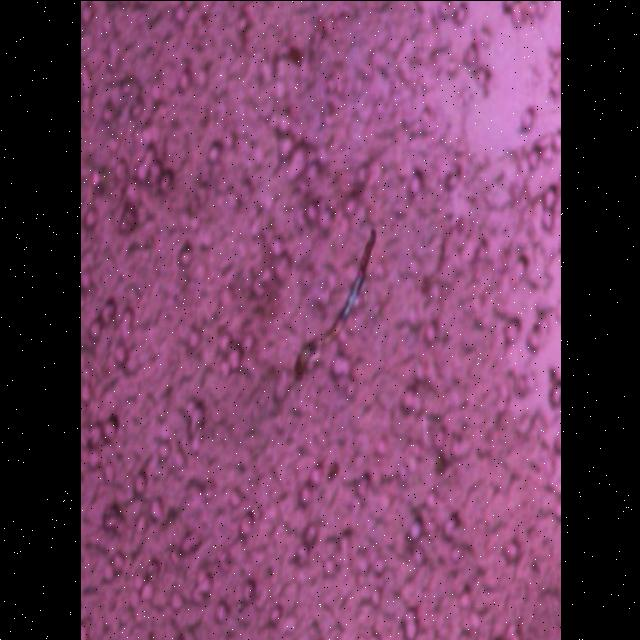Fibre: (292, 226, 376, 384)
